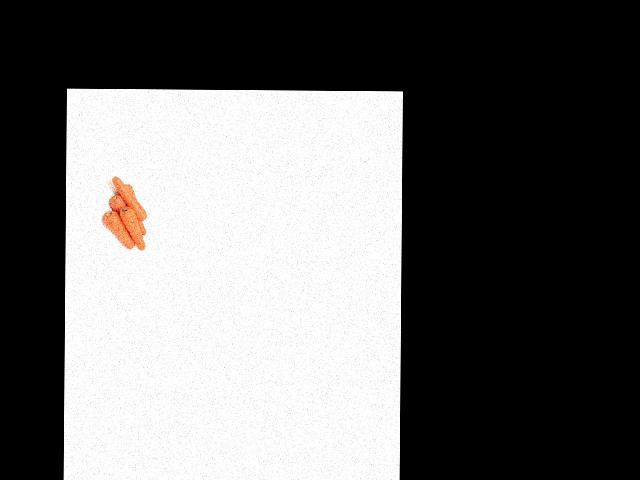carrot: (97, 205, 135, 251)
